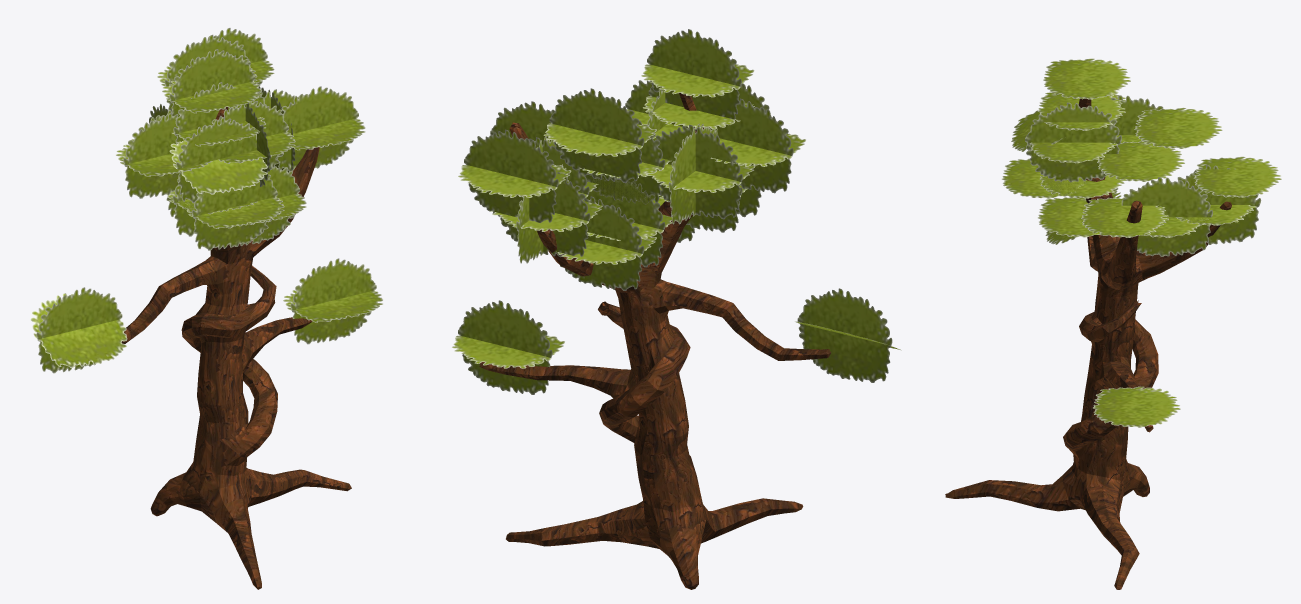
File: Arbre_1.fbx
The picture shows the model from 3 angles, left to right: view 1: azimuth 30°, elevation 25°; view 2: azimuth 150°, elevation 25°; view 3: azimuth 270°, elevation 25°; orthographic projection. The views are drawn at different scales.
Visible parts, largest first — view 1: Arbre_1; view 2: Arbre_1; view 3: Arbre_1.
Part boxes in pixels (x1,y1,x2,y2): Arbre_1: (30, 28, 382, 589); Arbre_1: (452, 29, 901, 589); Arbre_1: (945, 58, 1281, 589).
Bounding box in the file's own units: 1970 × 2526 × 1616.
